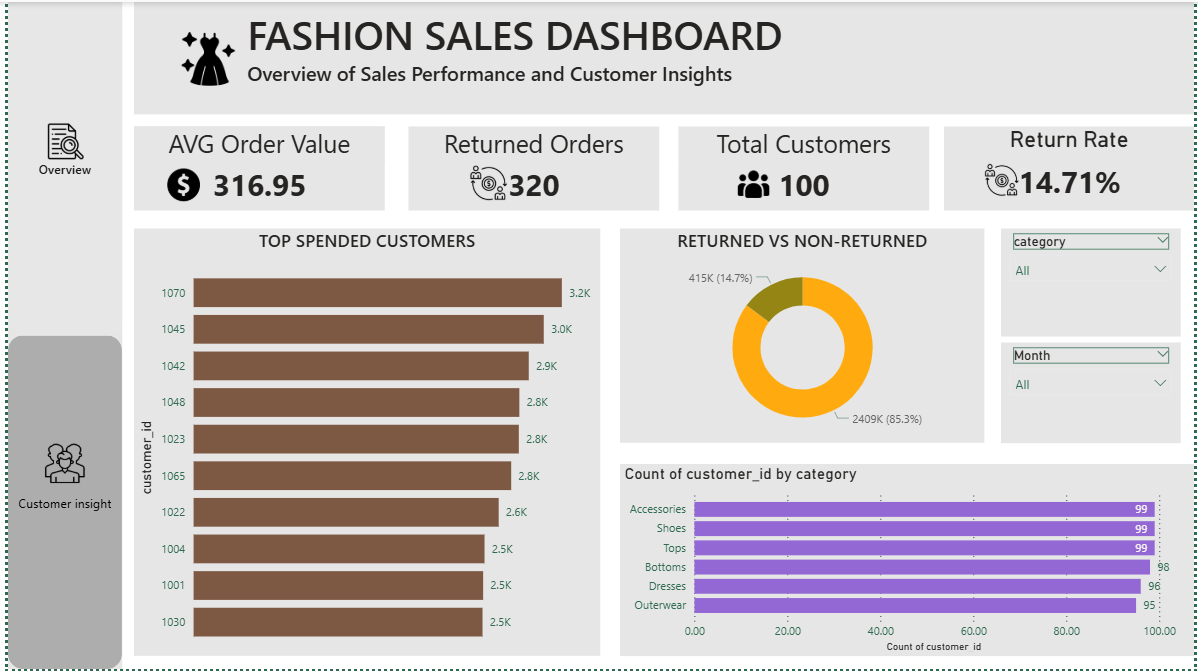

Layout of this report page (visuals, bound fields, positions):
{"tool":"powerbi","page":{"name":"Customer insight","canvas":[1280,720],"ordinal":1},"visuals":[{"type":"card","title":"Returned Orders","fields":{"Values":["cleaned_dataset (2).returned orders"]},"box":[432.3,134.4,270.4,90.7],"z":0},{"type":"card","title":"Return Rate","fields":{"Values":["cleaned_dataset (2).return rate"]},"box":[1010.4,134.4,270.4,90.7],"z":1000},{"type":"card","title":"AVG Order Value","fields":{"Values":["cleaned_dataset (2).AOV"]},"box":[136,134.4,270.4,90.7],"z":2000},{"type":"barChart","title":"TOP SPENDED CUSTOMERS","fields":{"Y":["cleaned_dataset (2).total revenue"],"Category":["cleaned_dataset (2).customer_id"]},"box":[136,244.5,503.6,461.5],"z":3000},{"type":"barChart","fields":{"Category":["cleaned_dataset (2).category"],"Y":["Count(cleaned_dataset (2).customer_id)"]},"box":[660.6,498.7,620.2,207.3],"z":4000},{"type":"donutChart","title":"RETURNED VS NON-RETURNED","fields":{"Y":["Sum(cleaned_dataset (2).order_id)"],"Category":["cleaned_dataset (2).is_returned"]},"box":[660.6,244.5,393.5,231.5],"z":5000},{"type":"slicer","fields":{"Values":["cleaned_dataset (2).category"]},"box":[1071.9,244.5,194.3,116.6],"z":6000},{"type":"slicer","fields":{"Values":["cleaned_dataset (2).purchase_date.Variation.Date Hierarchy.Month"]},"box":[1071.9,367.6,194.3,108.5],"z":7000},{"type":"textbox","box":[136,0,1144.8,121.4],"z":8000},{"type":"image","box":[178.1,32.4,76.1,58.3],"z":9000},{"type":"shape","box":[0,0,123.1,720.6],"z":10000},{"type":"pageNavigator","box":[0,0,123.1,720.6],"z":11000},{"type":"image","box":[30.8,476.1,61.5,43.7],"z":12000},{"type":"image","box":[24.3,131.2,76.1,38.9],"z":13000},{"type":"card","title":"Total Customers","fields":{"Values":["Count(cleaned_dataset (2).customer_id)"]},"box":[723.8,134.4,270.4,90.7],"z":14000},{"type":"image","box":[161.9,179.7,55.1,35.6],"z":15000},{"type":"image","box":[82.6,174.9,872.8,40.5],"z":16000},{"type":"image","box":[769.1,179.7,71.2,34],"z":17000},{"type":"image","box":[1054.1,170,37.2,43.7],"z":18000}]}

Visuals, with their boxes in screenshot pixels (x1, y1, x2, y2), scaled from the page's 1280x720 canvas onto the 1198x671 screenshot:
"Returned Orders" card: bbox(405, 125, 658, 210)
"Return Rate" card: bbox(946, 125, 1197, 210)
"AVG Order Value" card: bbox(127, 125, 380, 210)
"TOP SPENDED CUSTOMERS" barChart: bbox(127, 228, 599, 658)
barChart - cleaned_dataset (2).category x Count(cleaned_dataset (2).customer_id): bbox(618, 465, 1197, 658)
"RETURNED VS NON-RETURNED" donutChart: bbox(618, 228, 987, 444)
slicer - cleaned_dataset (2).category: bbox(1003, 228, 1185, 337)
slicer - cleaned_dataset (2).purchase_date.Variation.Date Hierarchy.Month: bbox(1003, 343, 1185, 444)
textbox: bbox(127, 0, 1197, 113)
image: bbox(167, 30, 238, 85)
shape: bbox(0, 0, 115, 670)
pageNavigator: bbox(0, 0, 115, 670)
image: bbox(29, 444, 86, 484)
image: bbox(23, 122, 94, 159)
"Total Customers" card: bbox(677, 125, 931, 210)
image: bbox(152, 167, 203, 201)
image: bbox(77, 163, 894, 201)
image: bbox(720, 167, 786, 199)
image: bbox(987, 158, 1021, 199)
